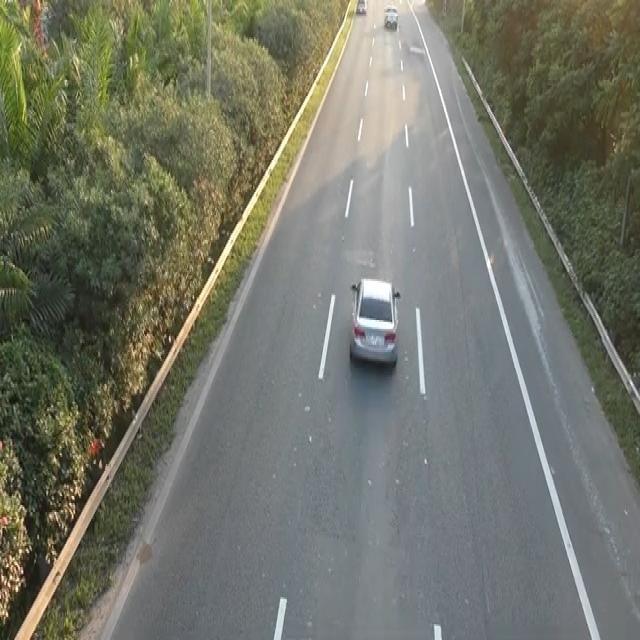bus: (347, 272, 402, 370), (354, 0, 367, 14)
car: (382, 4, 399, 30)
